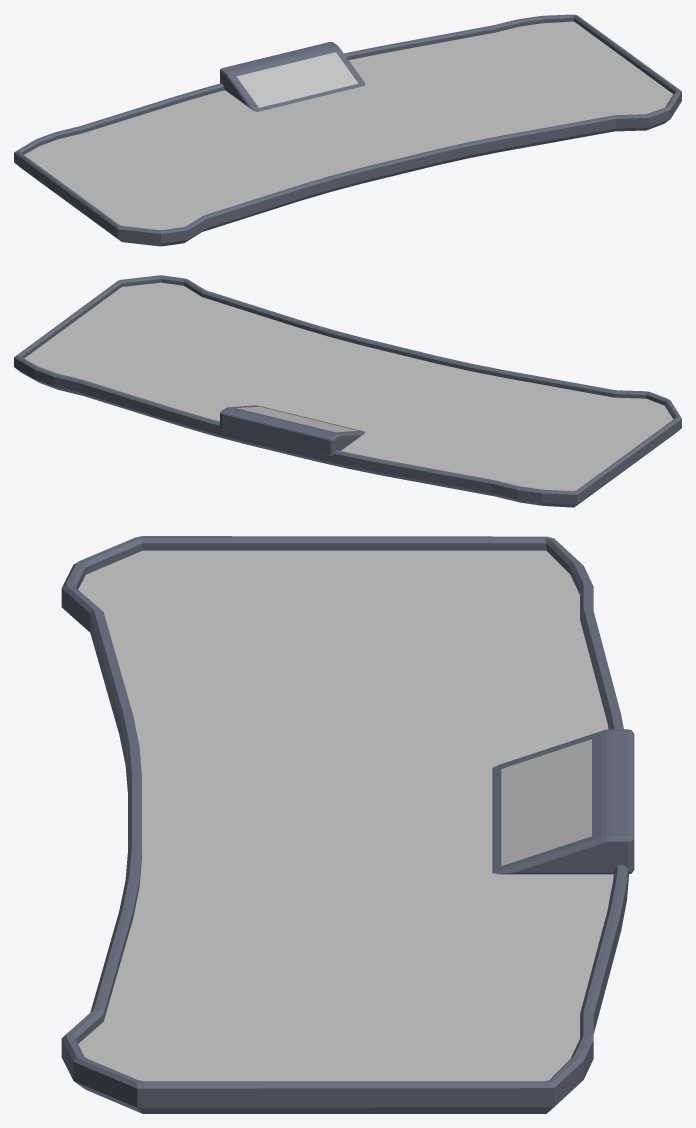
File: Tableau de bord.fbx
3 views of the same model, one above another, from view 1: azimuth 30°, elevation 25°; view 2: azimuth 150°, elevation 25°; view 3: azimuth 270°, elevation 25° (orthographic). The views are drawn at different scales.
Visible parts, largest first — view 1: TableauDeBord; view 2: TableauDeBord; view 3: TableauDeBord.
Boxes of the visible parts, bbox=[...] form: TableauDeBord: bbox=[14, 14, 681, 246]; TableauDeBord: bbox=[14, 275, 681, 507]; TableauDeBord: bbox=[61, 536, 634, 1113].
Size of the model in its own units: 274 by 14.11 by 120.
